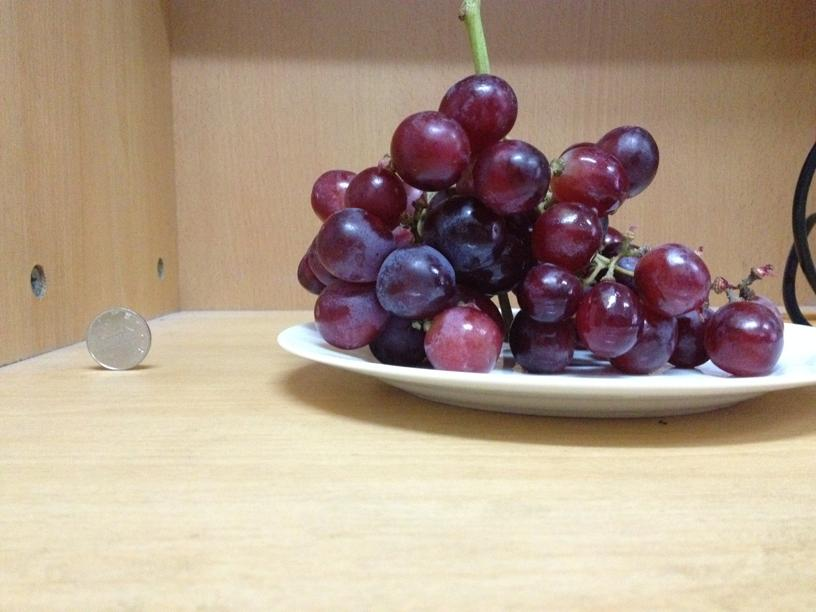coin: (84, 305, 151, 372)
grape: (286, 75, 782, 373)
